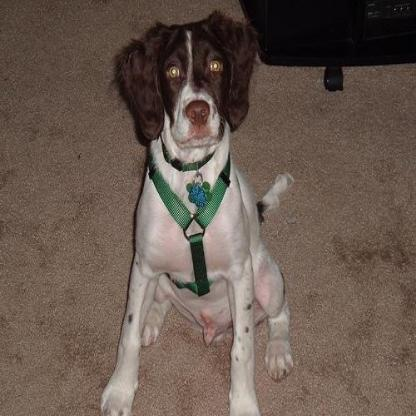Brittany_spaniel: (96, 8, 295, 414)
